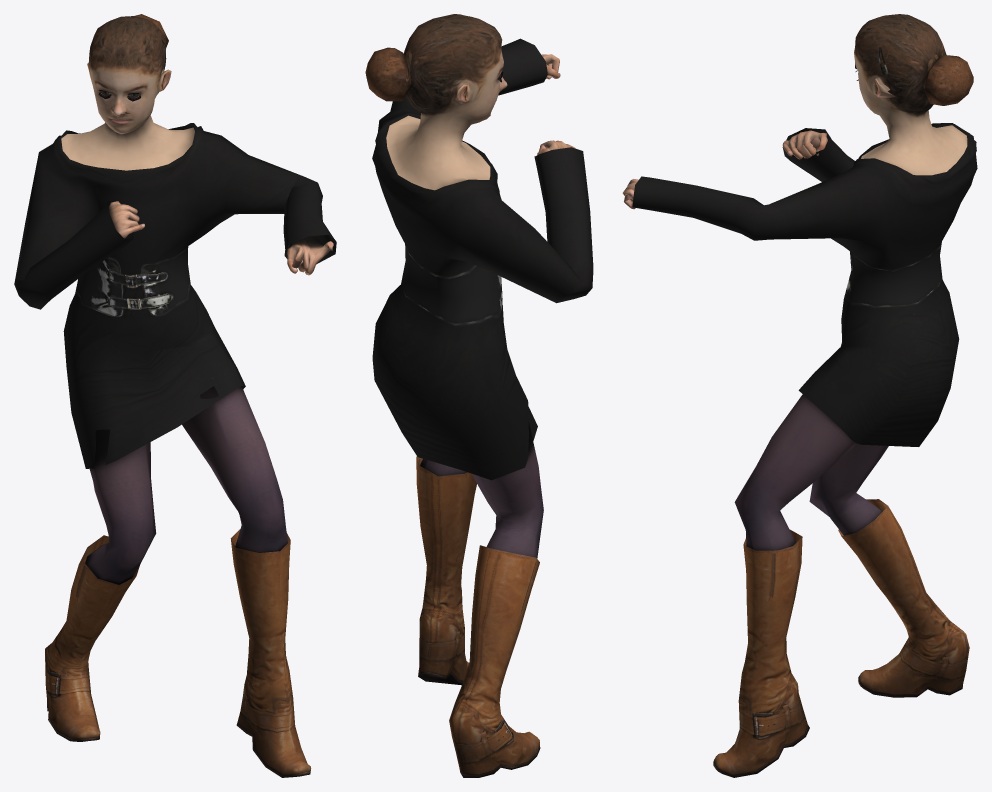
The model's file is Ana_Model_000039.obj.
3 views of the same model, side by side, from view 1: azimuth 30°, elevation 25°; view 2: azimuth 150°, elevation 25°; view 3: azimuth 270°, elevation 25° (orthographic). The views are drawn at different scales.
Visible parts, largest first — view 1: Ana_Cube.004; view 2: Ana_Cube.004; view 3: Ana_Cube.004.
Boxes of the visible parts, x1,y1,x2,y2 form: Ana_Cube.004: (14, 14, 336, 777); Ana_Cube.004: (365, 14, 593, 777); Ana_Cube.004: (622, 14, 977, 777).
Size of the model in its own units: 0.6682 by 1.87 by 0.8438.
1 material, 1 textured.
